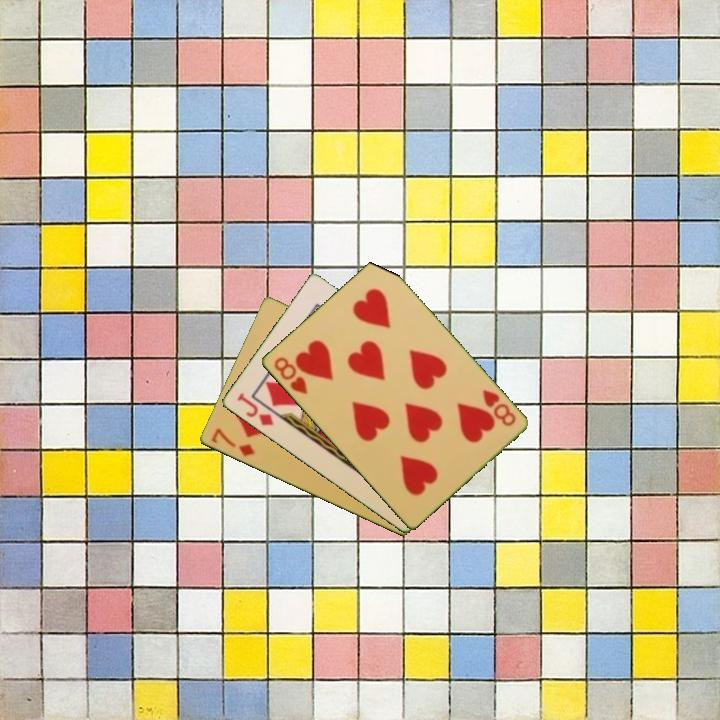7d: (208, 425, 257, 459)
8h: (270, 353, 310, 397), (478, 386, 518, 429)
Jd: (233, 389, 276, 429)
